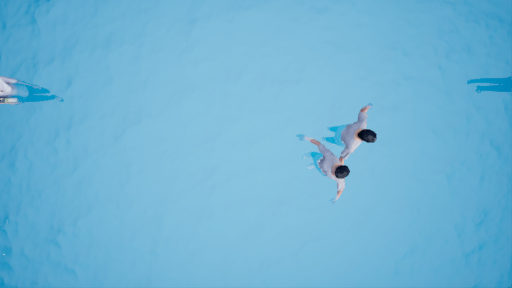person: (286, 128, 352, 205), (325, 89, 385, 162), (1, 63, 70, 112)
